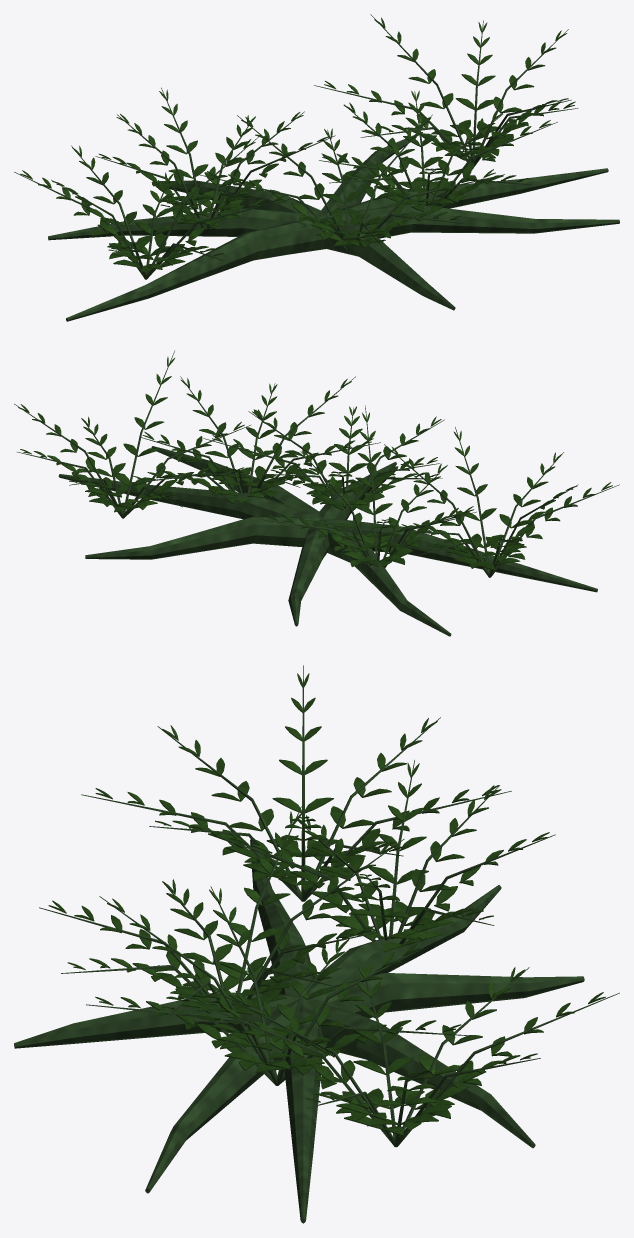
File: RootFernBank.raw.glb
The picture shows the model from 3 angles, top to bottom: view 1: azimuth 30°, elevation 25°; view 2: azimuth 150°, elevation 25°; view 3: azimuth 270°, elevation 25°; orthographic projection. The views are drawn at different scales.
Parts seen in each view (by area): view 1: MossRoot/primary, CanopyLeaf/detail, MossRoot/detail; view 2: CanopyLeaf/detail, MossRoot/primary, MossRoot/detail; view 3: CanopyLeaf/detail, MossRoot/primary, MossRoot/detail.
Part boxes in pixels (x1,y1,x2,y2): MossRoot/primary: (48,14,619,321); CanopyLeaf/detail: (20,17,575,272); MossRoot/detail: (14,20,578,279); CanopyLeaf/detail: (18,357,612,570); MossRoot/primary: (14,403,597,636); MossRoot/detail: (17,350,619,577); CanopyLeaf/detail: (48,673,605,1135); MossRoot/primary: (14,837,619,1223); MossRoot/detail: (39,665,555,1146).
Size of the model in its own units: 6 by 1.4 by 4.
2 materials, 2 textured.
